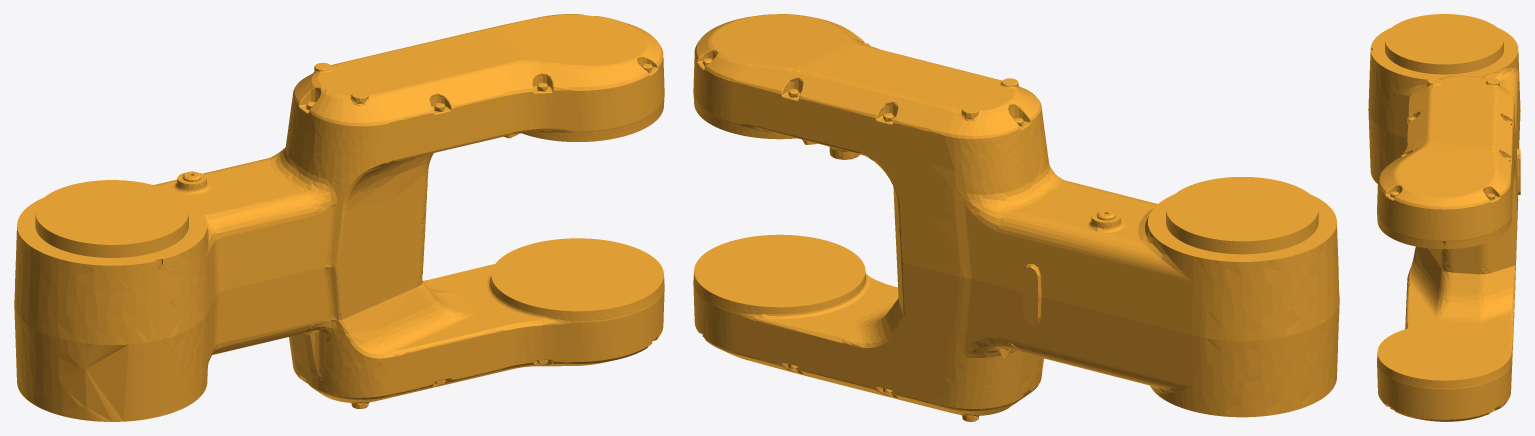
Rendered from ABBIRB1100Link2.dae.
The picture shows the model from 3 angles, left to right: view 1: azimuth 30°, elevation 25°; view 2: azimuth 150°, elevation 25°; view 3: azimuth 270°, elevation 25°; orthographic projection. The views are drawn at different scales.
Visible parts, largest first — view 1: irb1100Link2; view 2: irb1100Link2; view 3: irb1100Link2.
Part boxes in pixels (<box>): irb1100Link2: <box>14,14,664,421</box>; irb1100Link2: <box>693,14,1339,421</box>; irb1100Link2: <box>1368,14,1520,421</box>.
Bounding box in the file's own units: 0.3763 × 0.102 × 0.179.
